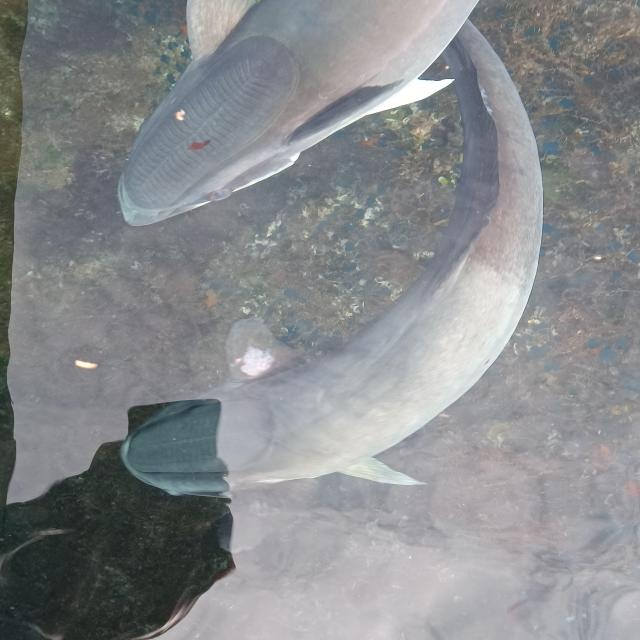ikan: (117, 5, 545, 501), (116, 0, 480, 227)
